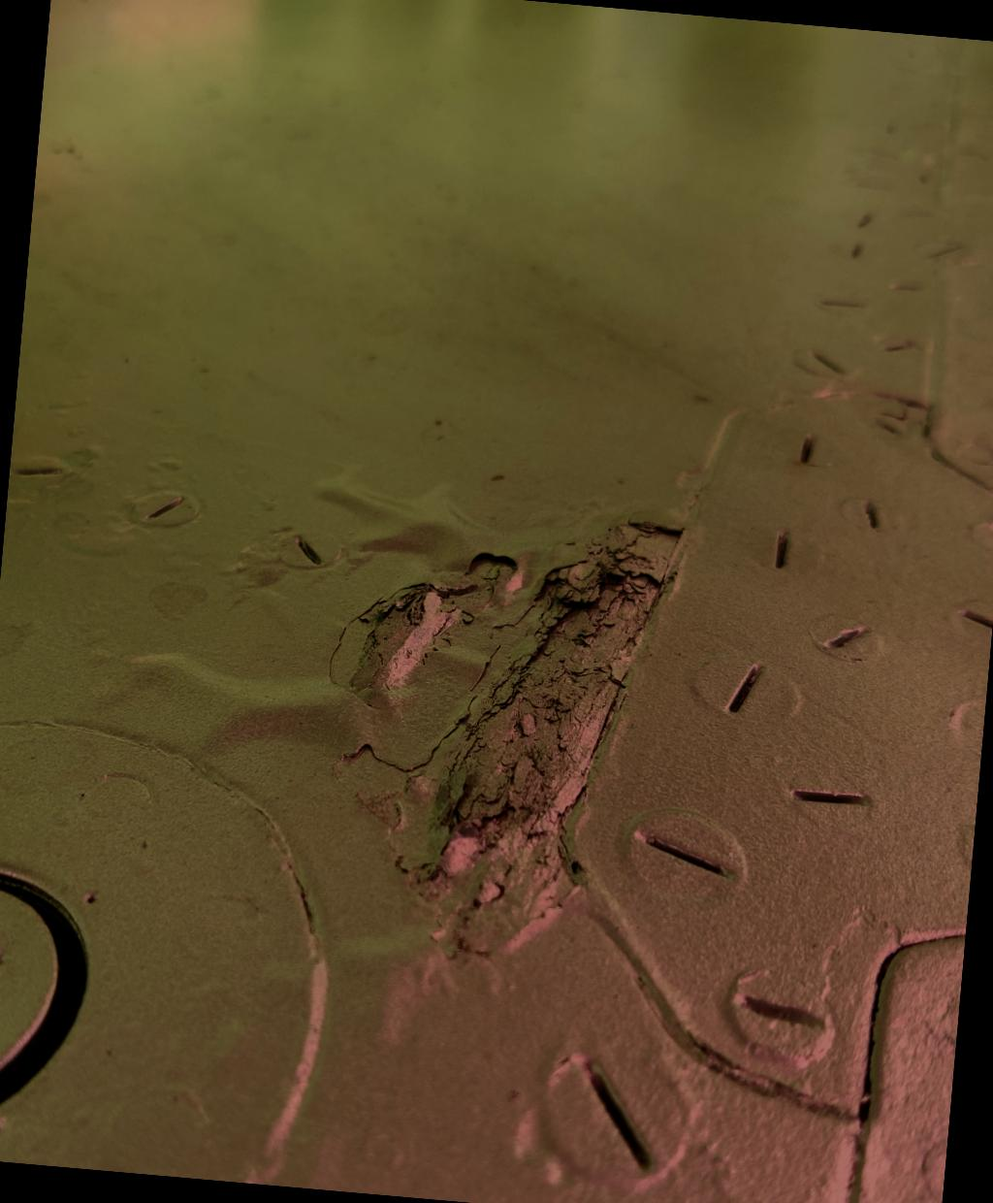corrosion: (332, 508, 685, 983)
